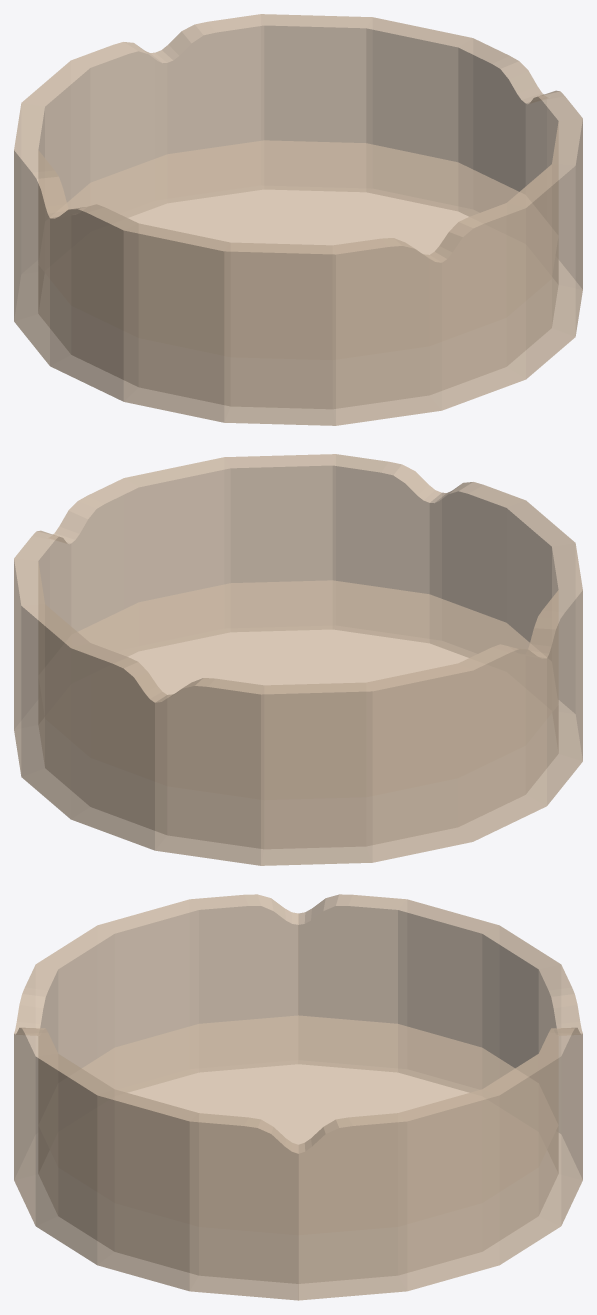
The model's file is Ashtray_1.fbx.
3 renders of one model, top to bottom at view 1: azimuth 30°, elevation 25°; view 2: azimuth 150°, elevation 25°; view 3: azimuth 270°, elevation 25°, orthographic.
Parts seen in each view (by area): view 1: Ashtray1; view 2: Ashtray1; view 3: Ashtray1.
Part boxes in pixels (x1=…): Ashtray1: x1=14, y1=14, x2=582, y2=425; Ashtray1: x1=14, y1=454, x2=582, y2=865; Ashtray1: x1=14, y1=894, x2=582, y2=1300.
Size of the model in its own units: 35.89 by 11.83 by 35.89.
